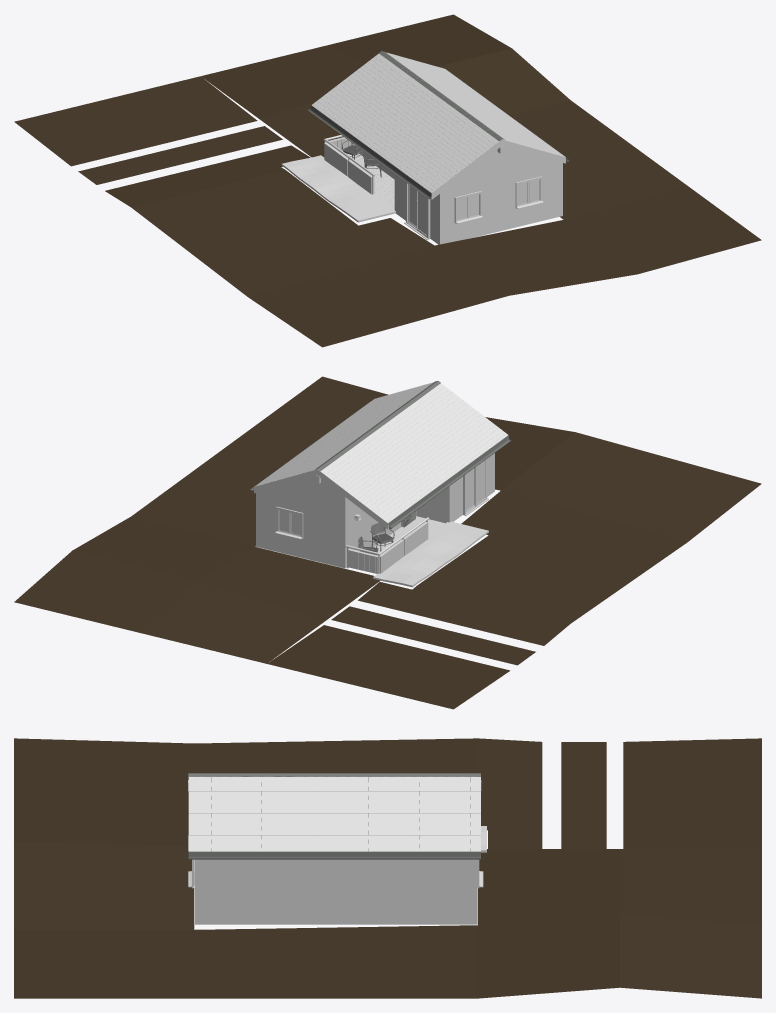
File: cabin.fbx
The picture shows the model from 3 angles, top to bottom: view 1: azimuth 30°, elevation 25°; view 2: azimuth 150°, elevation 25°; view 3: azimuth 270°, elevation 25°; orthographic projection. The views are drawn at different scales.
Visible parts, largest first — view 1: Plane.001, Roof, Wall, Plane.002, Fence, Floor; view 2: Plane.001, Roof, Wall, Plane.002, Fence; view 3: Plane.001, Roof, Wall.
Boxes of the visible parts, <box> form: Plane.001: <box>14,14,761,347</box>; Roof: <box>307,51,569,199</box>; Wall: <box>359,146,562,244</box>; Plane.002: <box>281,155,395,222</box>; Fence: <box>323,135,375,194</box>; Floor: <box>350,154,561,239</box>; Plane.001: <box>14,376,761,709</box>; Roof: <box>250,381,511,529</box>; Wall: <box>256,453,494,568</box>; Plane.002: <box>373,521,488,587</box>; Fence: <box>345,517,429,573</box>; Plane.001: <box>14,738,761,998</box>; Roof: <box>188,773,481,859</box>; Wall: <box>195,859,477,924</box>.
Size of the model in its own units: 2192 by 469 by 2664.
